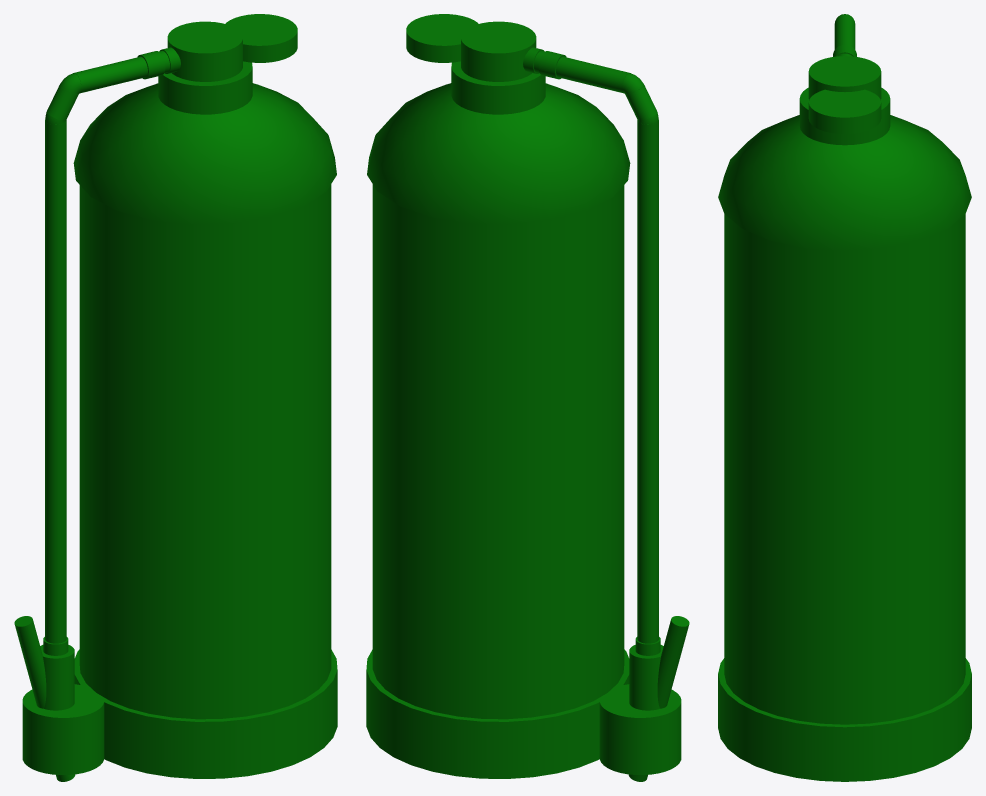
File: Image-1710907554235-2281256904976_76-SE0585.fbx
3 views of the same model, side by side, from view 1: azimuth 30°, elevation 25°; view 2: azimuth 150°, elevation 25°; view 3: azimuth 270°, elevation 25° (orthographic). The views are drawn at different scales.
Visible parts, largest first — view 1: CYLINDER 1 of EQUIPMENT /76-SE0585, DISH 1 of EQUIPMENT /76-SE0585, CYLINDER 15 of EQUIPMENT /76-SE0585, CYLINDER 6 of EQUIPMENT /76-SE0585, CYLINDER 14 of EQUIPMENT /76-SE0585, CYLINDER 3 of EQUIPMENT /76-SE0585, CYLINDER 2 of EQUIPMENT /76-SE0585, CYLINDER 4 of EQUIPMENT /76-SE0585, CYLINDER 10 of EQUIPMENT /76-SE0585, CYLINDER 11 of EQUIPMENT /76-SE0585, CYLINDER 7 of EQUIPMENT /76-SE0585, CYLINDER 8 of EQUIPMENT /76-SE0585; view 2: CYLINDER 1 of EQUIPMENT /76-SE0585, DISH 1 of EQUIPMENT /76-SE0585, CYLINDER 15 of EQUIPMENT /76-SE0585, CYLINDER 6 of EQUIPMENT /76-SE0585, CYLINDER 14 of EQUIPMENT /76-SE0585, CYLINDER 3 of EQUIPMENT /76-SE0585, CYLINDER 2 of EQUIPMENT /76-SE0585, CYLINDER 4 of EQUIPMENT /76-SE0585, CYLINDER 10 of EQUIPMENT /76-SE0585, CYLINDER 11 of EQUIPMENT /76-SE0585, CYLINDER 7 of EQUIPMENT /76-SE0585, CYLINDER 8 of EQUIPMENT /76-SE0585; view 3: CYLINDER 1 of EQUIPMENT /76-SE0585, DISH 1 of EQUIPMENT /76-SE0585, CYLINDER 15 of EQUIPMENT /76-SE0585, CYLINDER 4 of EQUIPMENT /76-SE0585, CYLINDER 3 of EQUIPMENT /76-SE0585, CYLINDER 2 of EQUIPMENT /76-SE0585, CYLINDER 7 of EQUIPMENT /76-SE0585.
Part boxes in pixels (x1=…): CYLINDER 1 of EQUIPMENT /76-SE0585: x1=79, y1=184, x2=331, y2=719; DISH 1 of EQUIPMENT /76-SE0585: x1=73, y1=83, x2=336, y2=224; CYLINDER 15 of EQUIPMENT /76-SE0585: x1=74, y1=649, x2=337, y2=778; CYLINDER 6 of EQUIPMENT /76-SE0585: x1=45, y1=120, x2=66, y2=643; CYLINDER 14 of EQUIPMENT /76-SE0585: x1=22, y1=684, x2=104, y2=774; CYLINDER 3 of EQUIPMENT /76-SE0585: x1=167, y1=21, x2=242, y2=81; CYLINDER 2 of EQUIPMENT /76-SE0585: x1=158, y1=61, x2=252, y2=114; CYLINDER 4 of EQUIPMENT /76-SE0585: x1=225, y1=14, x2=297, y2=62; CYLINDER 10 of EQUIPMENT /76-SE0585: x1=40, y1=645, x2=74, y2=710; CYLINDER 11 of EQUIPMENT /76-SE0585: x1=14, y1=616, x2=75, y2=781; CYLINDER 7 of EQUIPMENT /76-SE0585: x1=73, y1=56, x2=147, y2=93; CYLINDER 8 of EQUIPMENT /76-SE0585: x1=46, y1=85, x2=78, y2=121; CYLINDER 1 of EQUIPMENT /76-SE0585: x1=372, y1=184, x2=624, y2=719; DISH 1 of EQUIPMENT /76-SE0585: x1=367, y1=83, x2=630, y2=224; CYLINDER 15 of EQUIPMENT /76-SE0585: x1=366, y1=649, x2=629, y2=778; CYLINDER 6 of EQUIPMENT /76-SE0585: x1=637, y1=120, x2=658, y2=643; CYLINDER 14 of EQUIPMENT /76-SE0585: x1=599, y1=684, x2=681, y2=774; CYLINDER 3 of EQUIPMENT /76-SE0585: x1=461, y1=21, x2=536, y2=81; CYLINDER 2 of EQUIPMENT /76-SE0585: x1=451, y1=61, x2=545, y2=114; CYLINDER 4 of EQUIPMENT /76-SE0585: x1=406, y1=14, x2=478, y2=62; CYLINDER 10 of EQUIPMENT /76-SE0585: x1=629, y1=645, x2=663, y2=710; CYLINDER 11 of EQUIPMENT /76-SE0585: x1=628, y1=616, x2=689, y2=781; CYLINDER 7 of EQUIPMENT /76-SE0585: x1=556, y1=56, x2=630, y2=93; CYLINDER 8 of EQUIPMENT /76-SE0585: x1=625, y1=85, x2=657, y2=121; CYLINDER 1 of EQUIPMENT /76-SE0585: x1=724, y1=214, x2=965, y2=724; DISH 1 of EQUIPMENT /76-SE0585: x1=718, y1=115, x2=971, y2=250; CYLINDER 15 of EQUIPMENT /76-SE0585: x1=718, y1=658, x2=971, y2=781; CYLINDER 4 of EQUIPMENT /76-SE0585: x1=808, y1=89, x2=881, y2=133; CYLINDER 3 of EQUIPMENT /76-SE0585: x1=808, y1=56, x2=881, y2=100; CYLINDER 2 of EQUIPMENT /76-SE0585: x1=799, y1=87, x2=890, y2=145; CYLINDER 7 of EQUIPMENT /76-SE0585: x1=834, y1=15, x2=855, y2=49.
Size of the model in its own units: 0.2787 by 0.21 by 0.6189.
